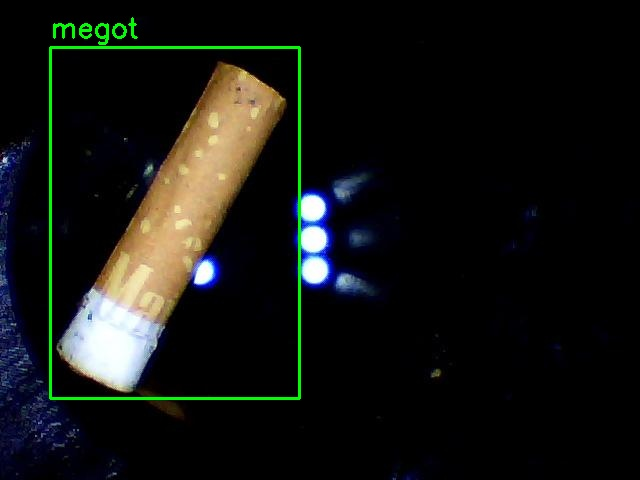megot: (50, 47, 299, 398)
